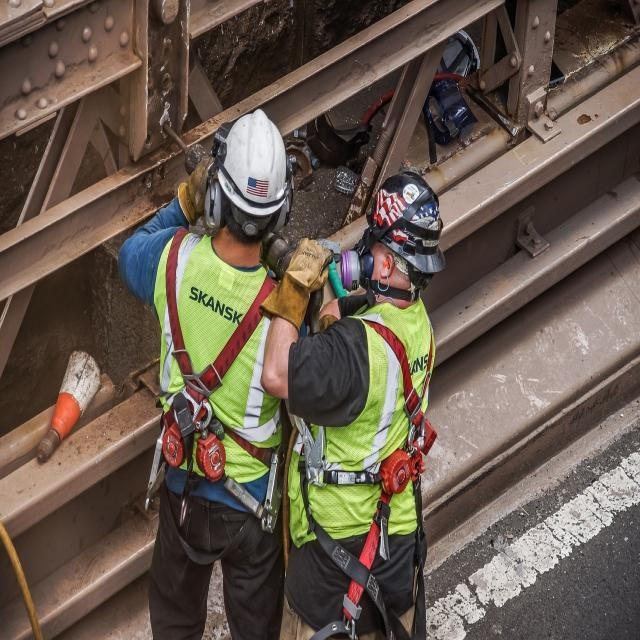Arnes_seguridad: (288, 319, 442, 640), (156, 227, 285, 567)
